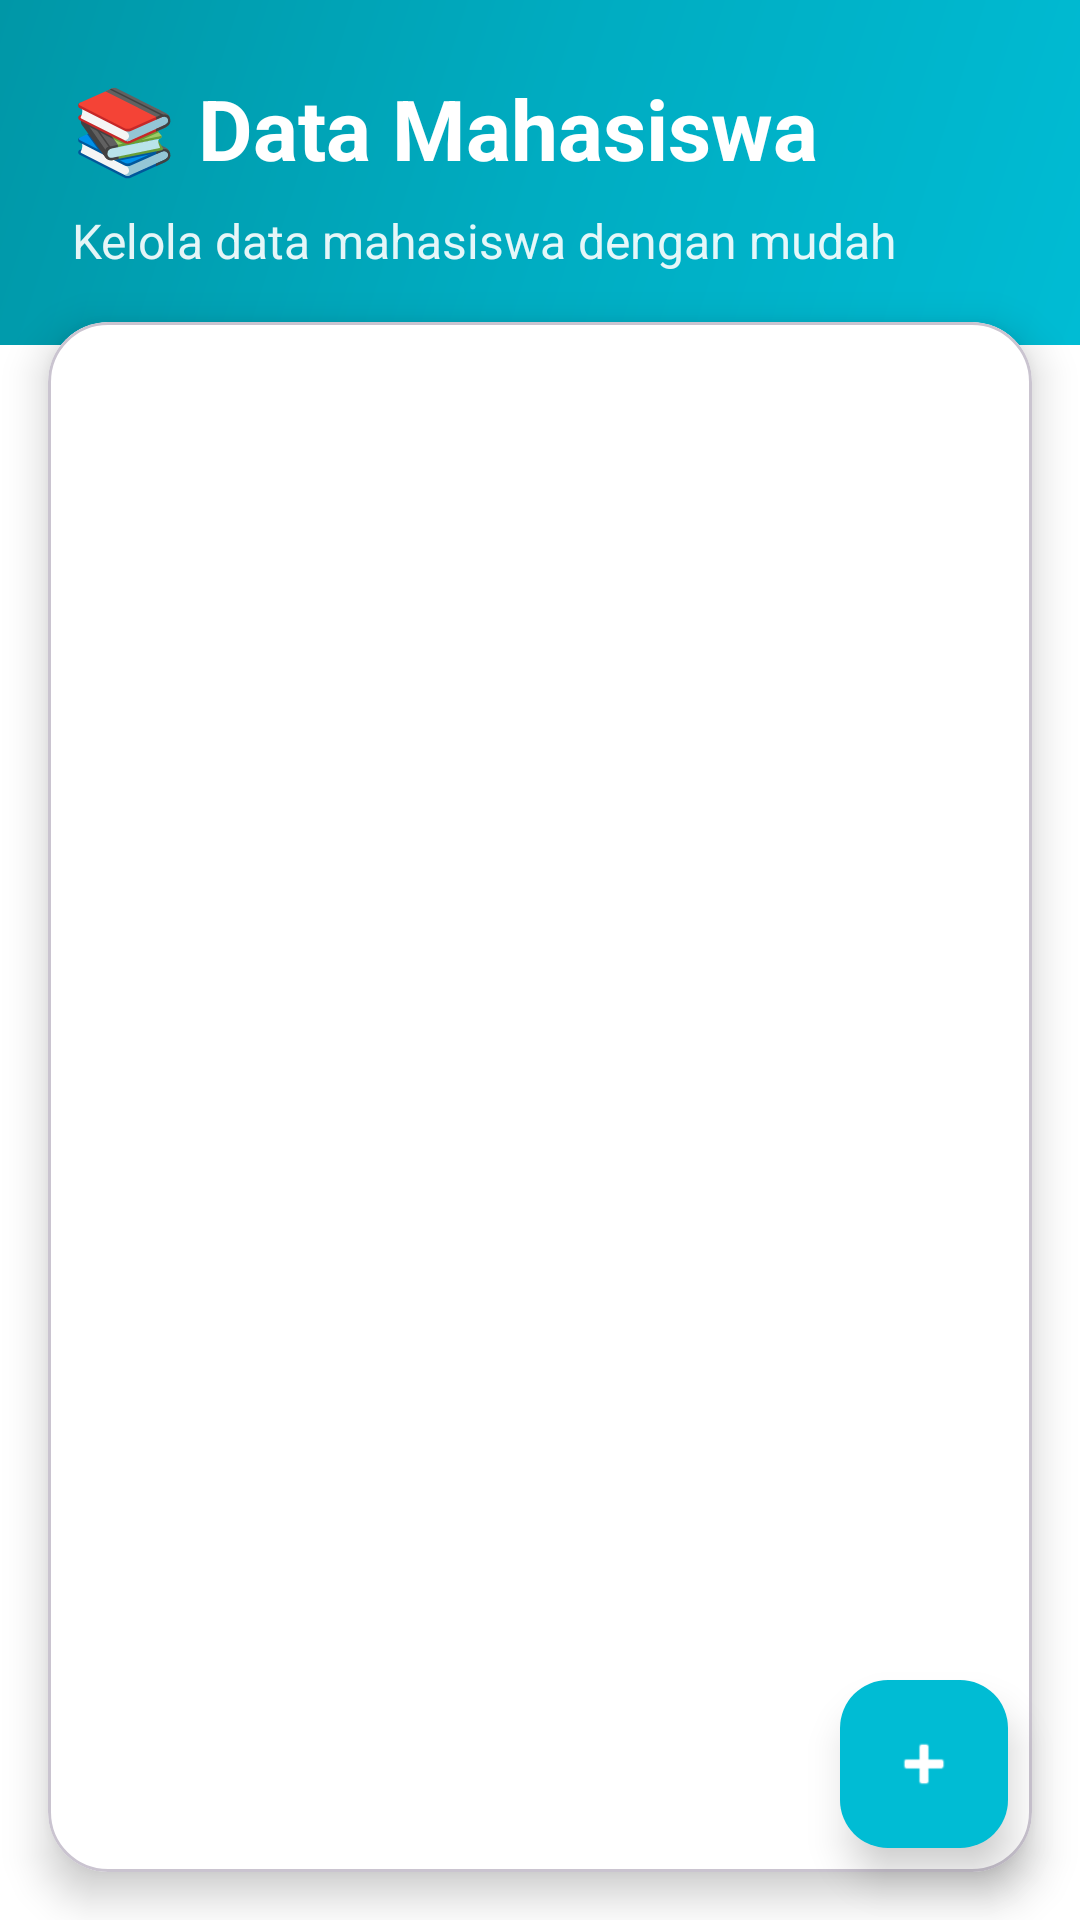

Where to tap for icons on this 1080x1920 app screen, as (x=x, y=y):
Tambah Mahasiswa: (x=924, y=1764)
